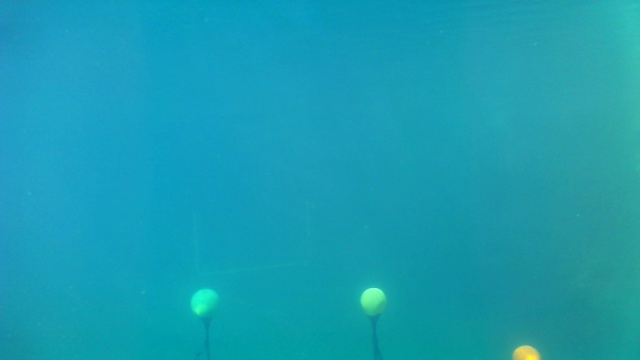buoy_green: (190, 287, 220, 329)
channel: (192, 199, 309, 277)
